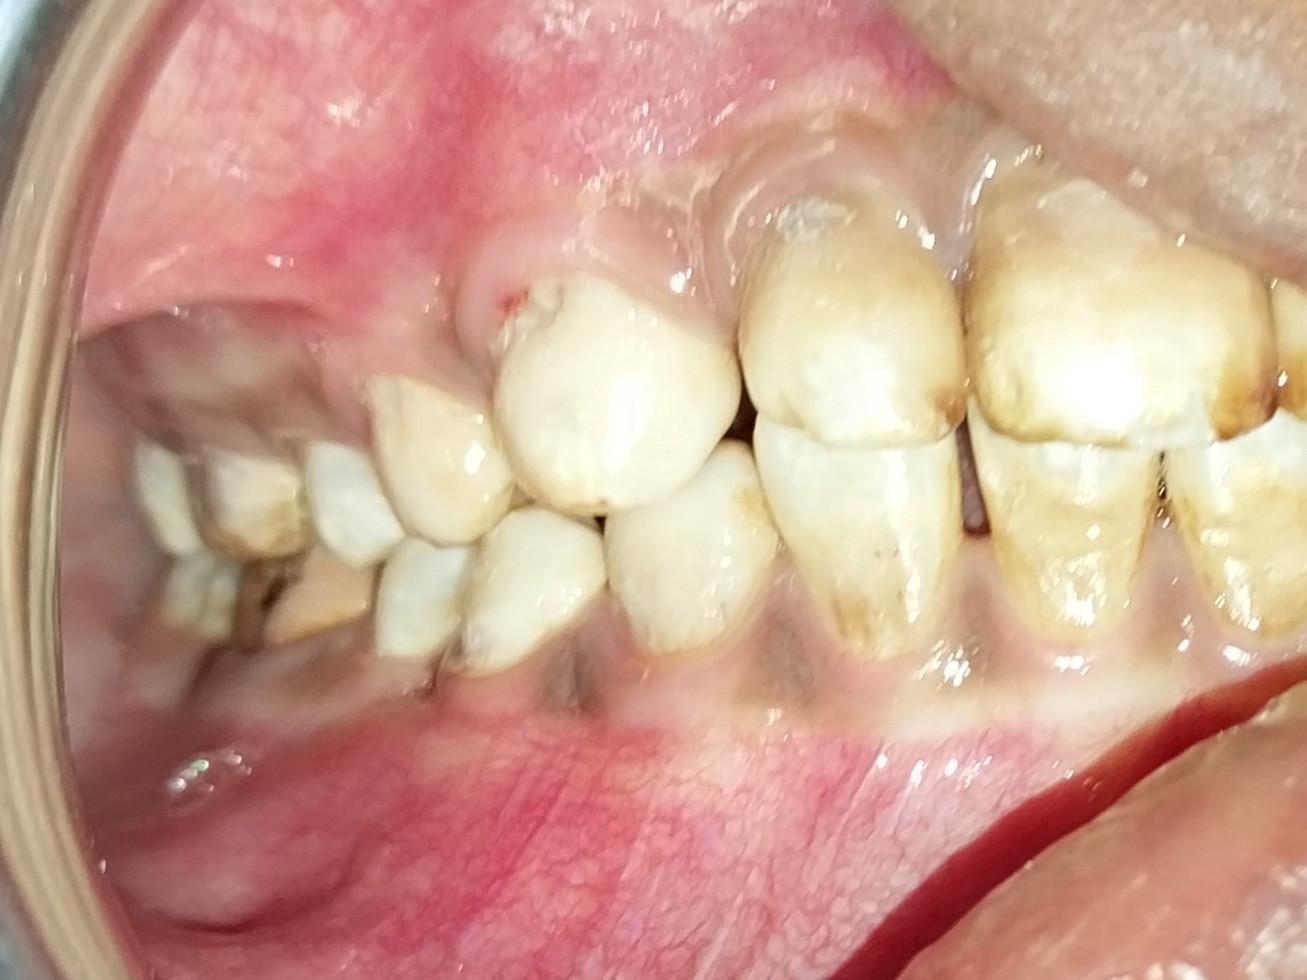D: (205, 546, 380, 655)
